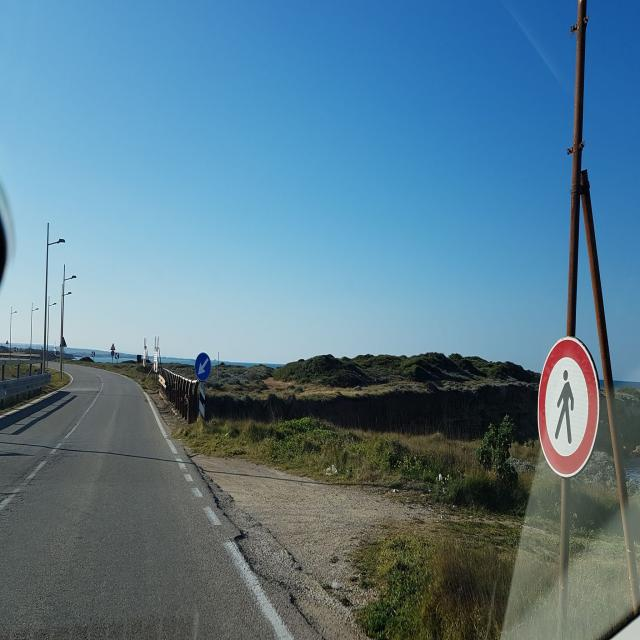forb_stopping: (111, 350, 114, 356)
